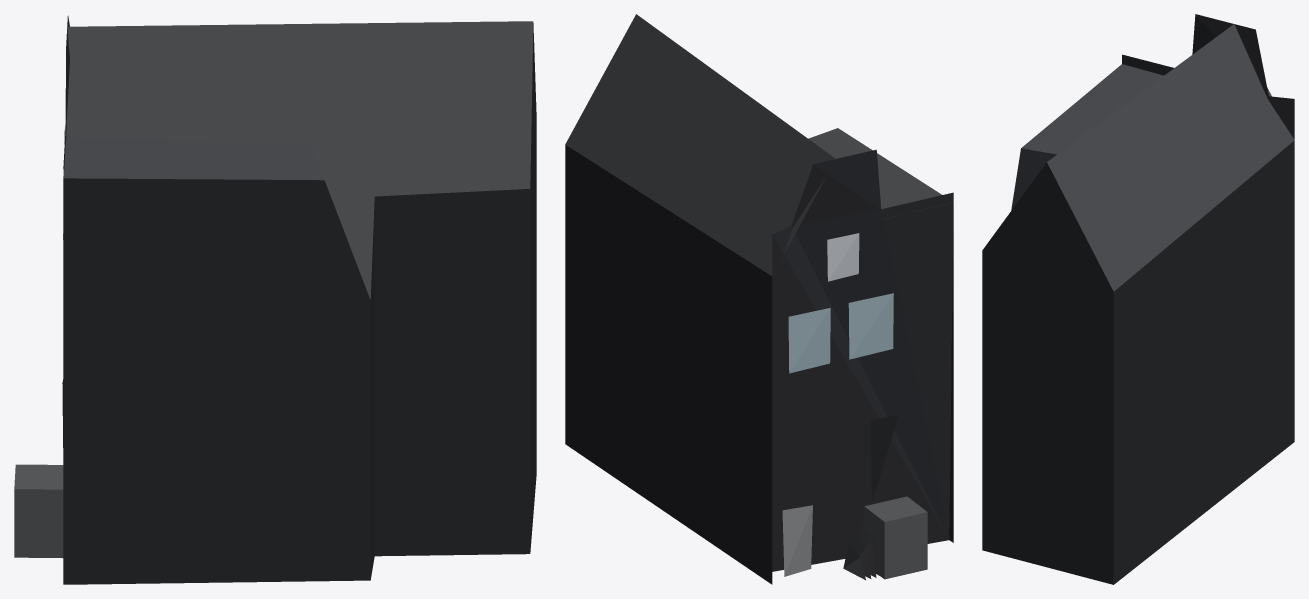
Rendered from banana-bar.lod2.glb.
3 renders of one model, left to right at view 1: azimuth 30°, elevation 25°; view 2: azimuth 150°, elevation 25°; view 3: azimuth 270°, elevation 25°, orthographic. The views are drawn at different scales.
Visible parts, largest first — view 1: lod2; view 2: lod2; view 3: lod2.
Boxes of the visible parts, x1,y1,x2,y2 form: lod2: [14, 15, 536, 584]; lod2: [565, 14, 953, 584]; lod2: [982, 14, 1294, 584].
Bounding box in the file's own units: 14.15 × 13.99 × 9.78.
